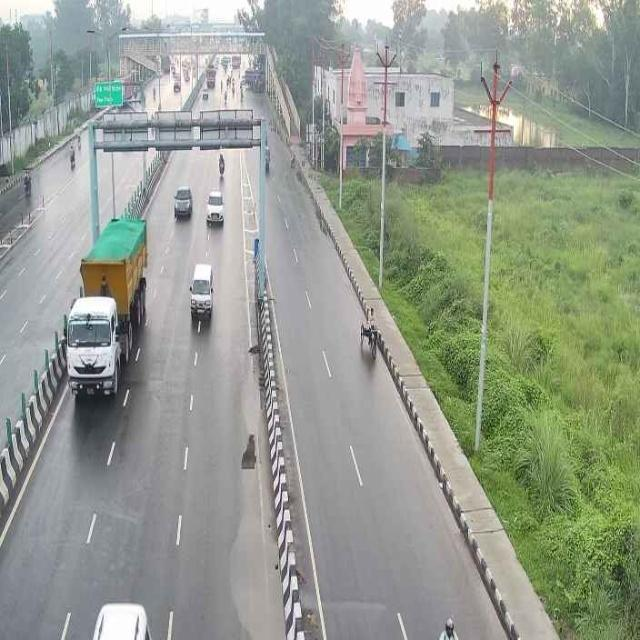car: (78, 598, 161, 638), (186, 257, 217, 334), (168, 181, 197, 223), (201, 184, 227, 229)
